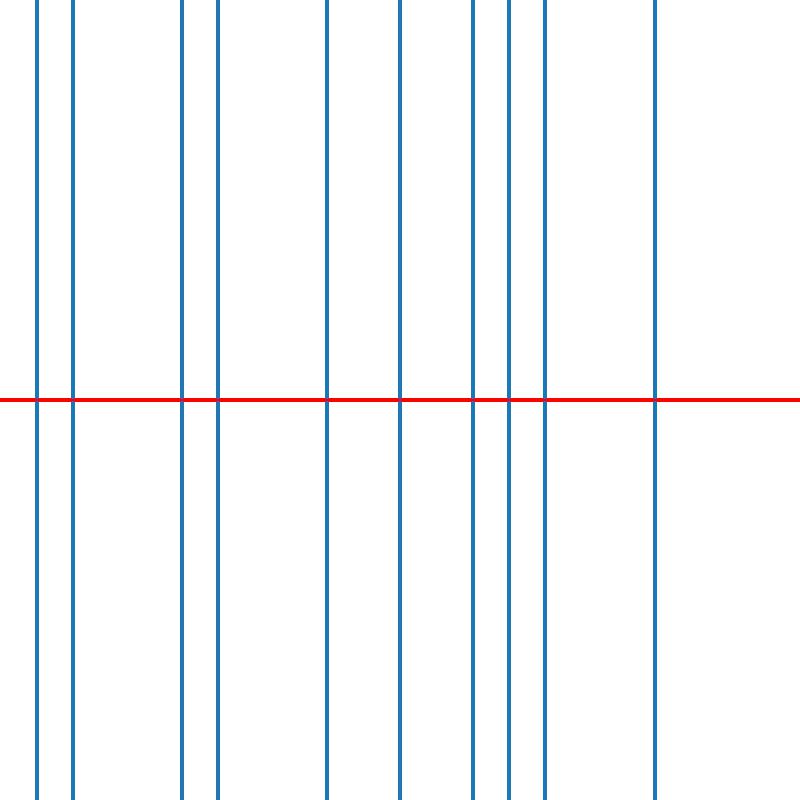root: (32, 396, 40, 404), (650, 396, 658, 404), (541, 396, 549, 404), (69, 396, 76, 404), (505, 396, 512, 404), (178, 396, 185, 404), (214, 396, 221, 404), (469, 396, 476, 404), (396, 396, 403, 404), (323, 396, 330, 404)
